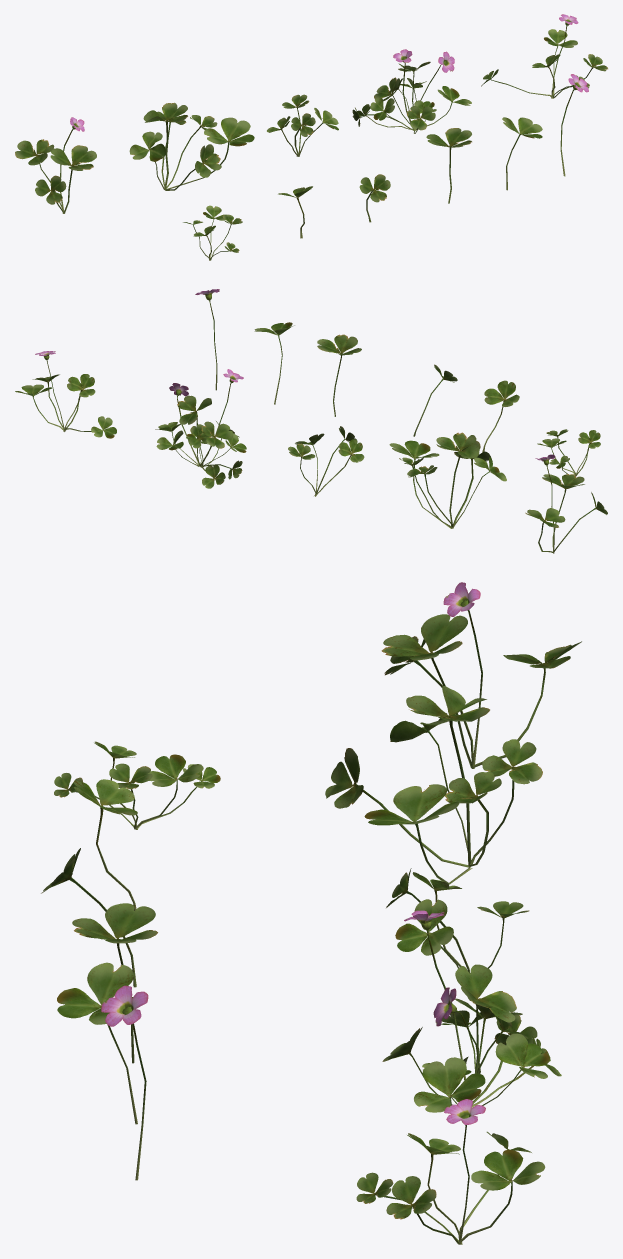
Rendered from shrub_sorrel_01.glb.
3 views of the same model, one above another, from view 1: azimuth 30°, elevation 25°; view 2: azimuth 150°, elevation 25°; view 3: azimuth 270°, elevation 25° (orthographic). The views are drawn at different scales.
Parts seen in each view (by area): view 1: shrub_sorrel_01_b, shrub_sorrel_01_d, shrub_sorrel_01_a, shrub_sorrel_01_e, shrub_sorrel_01_c, shrub_sorrel_01_f, shrub_sorrel_01_i, shrub_sorrel_01_h, shrub_sorrel_01_j, shrub_sorrel_01_k; view 2: shrub_sorrel_01_d, shrub_sorrel_01_b, shrub_sorrel_01_e, shrub_sorrel_01_a, shrub_sorrel_01_c, shrub_sorrel_01_f, shrub_sorrel_01_i, shrub_sorrel_01_g, shrub_sorrel_01_j; view 3: shrub_sorrel_01_b, shrub_sorrel_01_d, shrub_sorrel_01_e, shrub_sorrel_01_a, shrub_sorrel_01_f, shrub_sorrel_01_c, shrub_sorrel_01_j, shrub_sorrel_01_i, shrub_sorrel_01_k, shrub_sorrel_01_g.
Part boxes in pixels (bbox=[...]): shrub_sorrel_01_b: bbox=[129, 102, 254, 190]; shrub_sorrel_01_d: bbox=[352, 49, 471, 133]; shrub_sorrel_01_a: bbox=[15, 117, 96, 213]; shrub_sorrel_01_e: bbox=[481, 14, 607, 98]; shrub_sorrel_01_c: bbox=[267, 94, 338, 156]; shrub_sorrel_01_f: bbox=[183, 205, 242, 260]; shrub_sorrel_01_i: bbox=[426, 128, 471, 203]; shrub_sorrel_01_h: bbox=[359, 174, 390, 222]; shrub_sorrel_01_j: bbox=[502, 117, 542, 190]; shrub_sorrel_01_k: bbox=[560, 74, 588, 176]; shrub_sorrel_01_d: bbox=[155, 369, 246, 488]; shrub_sorrel_01_b: bbox=[389, 432, 506, 528]; shrub_sorrel_01_e: bbox=[15, 351, 116, 438]; shrub_sorrel_01_a: bbox=[525, 454, 607, 553]; shrub_sorrel_01_c: bbox=[288, 426, 364, 496]; shrub_sorrel_01_f: bbox=[537, 429, 600, 476]; shrub_sorrel_01_i: bbox=[317, 334, 361, 416]; shrub_sorrel_01_g: bbox=[482, 380, 519, 452]; shrub_sorrel_01_j: bbox=[254, 322, 294, 404]; shrub_sorrel_01_b: bbox=[325, 686, 542, 884]; shrub_sorrel_01_d: bbox=[382, 910, 561, 1112]; shrub_sorrel_01_e: bbox=[356, 1099, 545, 1244]; shrub_sorrel_01_a: bbox=[381, 582, 581, 768]; shrub_sorrel_01_f: bbox=[54, 741, 220, 829]; shrub_sorrel_01_c: bbox=[386, 868, 529, 973]; shrub_sorrel_01_j: bbox=[57, 962, 137, 1124]; shrub_sorrel_01_i: bbox=[72, 903, 157, 1063]; shrub_sorrel_01_k: bbox=[101, 985, 148, 1180]; shrub_sorrel_01_g: bbox=[73, 779, 137, 910].
Bounding box in the file's own units: 0.3521 × 0.058 × 0.1464.
Materials: 1 (1 with a texture image).
